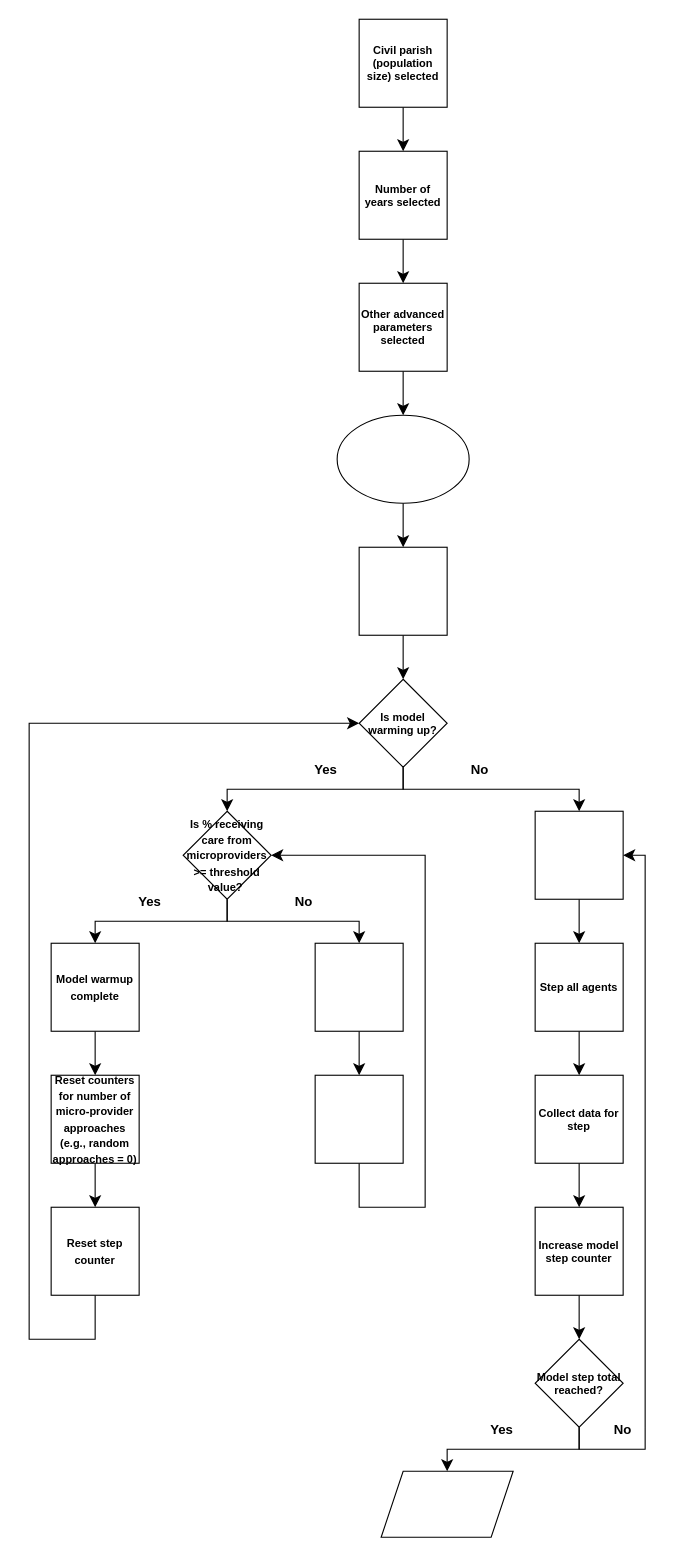
The diagram is 675 pixels wide and 1557 high, and some of its shapes have lost their labels. The centre of each missing label's shape, as x and y in pixels:
Collect data on current step, and progress all model agents one step.: pixel 358 1118
Create and place a small number of micro-provider agents into model.: pixel 358 986
Create and place initial agents: pixel 402 590
End of Simulation: pixel 446 1503
Increase resident population and check for random agent addition.: pixel 578 854
Model run initalised: pixel 402 458
